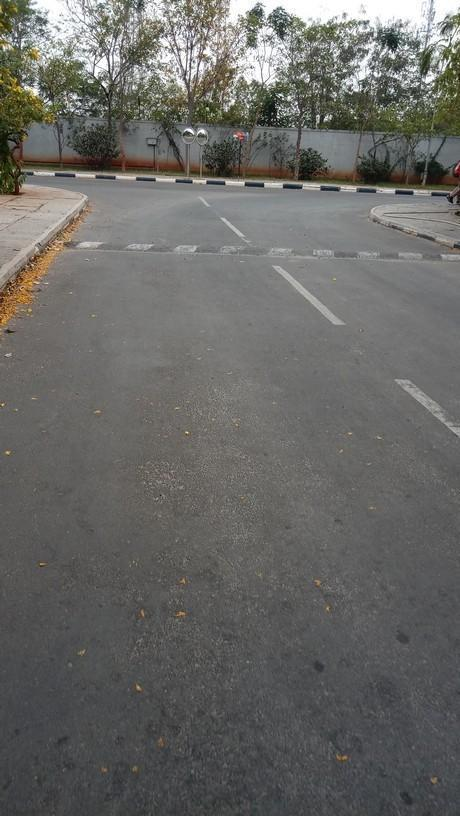speedbreaker: (50, 234, 458, 269)
